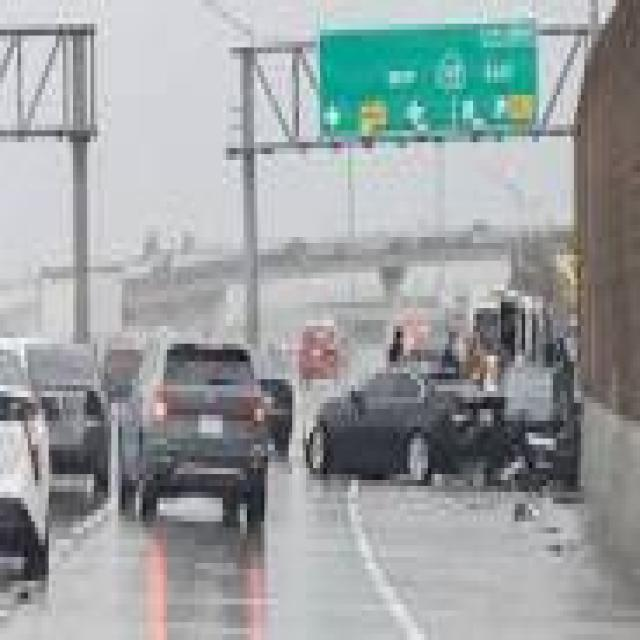Accident: (303, 287, 586, 498)
